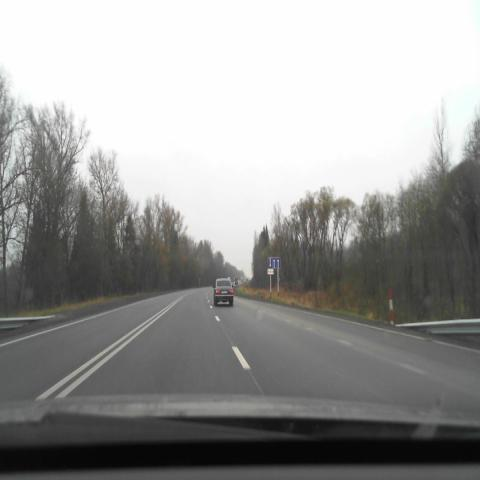5_15_7: (268, 257, 280, 269)
